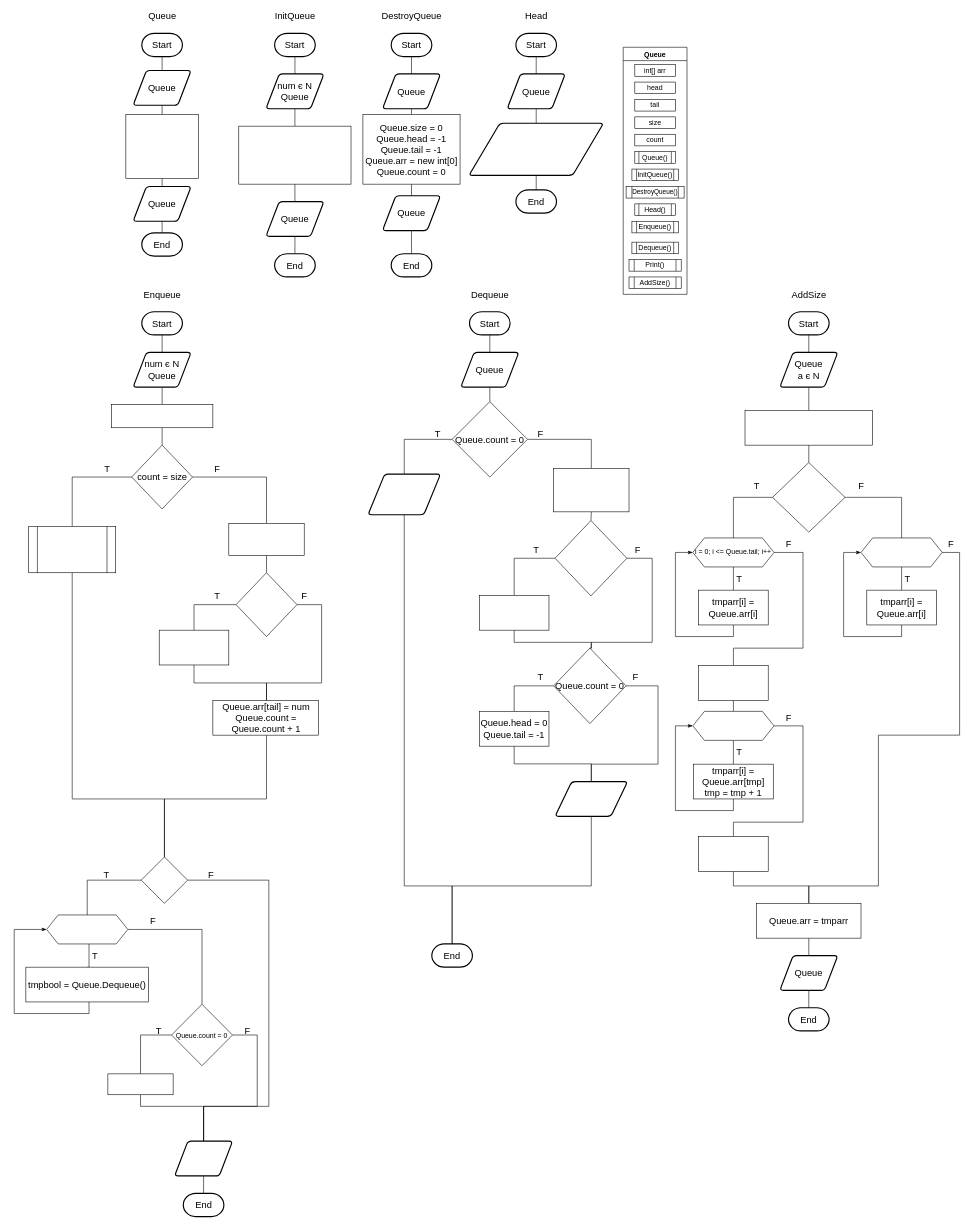
The diagram is 970 pixels wide and 1227 high, and some of its shapes have lost their labels. Here are the shapes that lost their labels. From the top down, the box of each, then its label:
(125, 114, 198, 178): Queue.size = 0 Queue.head = -1 Queue.tail = -1 Queue.count = 0
(238, 126, 351, 184): Queue.size = num Queue.arr = new int[size] Queue.head = 0
(468, 122, 604, 176): Queue.arr[Queue.head]
(111, 404, 213, 428): bool tmpbool = true
(744, 410, 873, 445): Queue.size = Queue.size + a int[] tmparr = new int[size]
(367, 473, 441, 515): Queue false
(553, 468, 629, 512): Queue.count = count - 1 Queue.head = Queue.head + 1
(772, 462, 845, 532): Queue.head > Queue.tail
(28, 526, 116, 573): Queue.AddSize()
(228, 523, 304, 555): Queue.tail = Queue.tail + 1
(554, 520, 627, 596): Queue.head = Queue.size
(860, 537, 942, 567): i = Queue.head; i <= Queue.tail; i++
(235, 572, 297, 637): Queue.tail = size
(479, 595, 549, 630): Queue.head = 0
(159, 630, 229, 665): Queue.tail = 0
(698, 665, 768, 700): int tmp = Queue.head
(692, 711, 774, 740): i = Queue.head + a; i < Queue.size; i++
(554, 781, 628, 817): Queue true
(698, 836, 768, 871): Queue.head = Queue.head + a
(141, 856, 188, 903): num = 0
(46, 914, 128, 944): i = 0; i < 3; i++
(107, 1073, 173, 1095): tmpbool = false
(174, 1140, 233, 1176): Queue tmpbool
